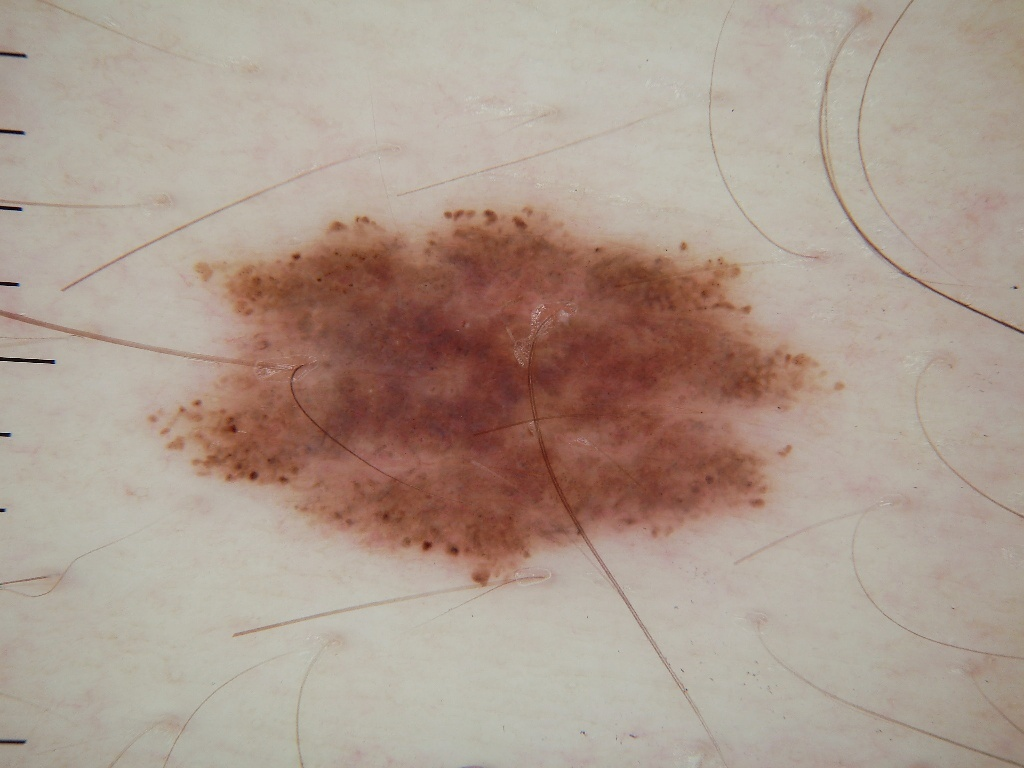Detected Lesion: (139, 195, 846, 596)
